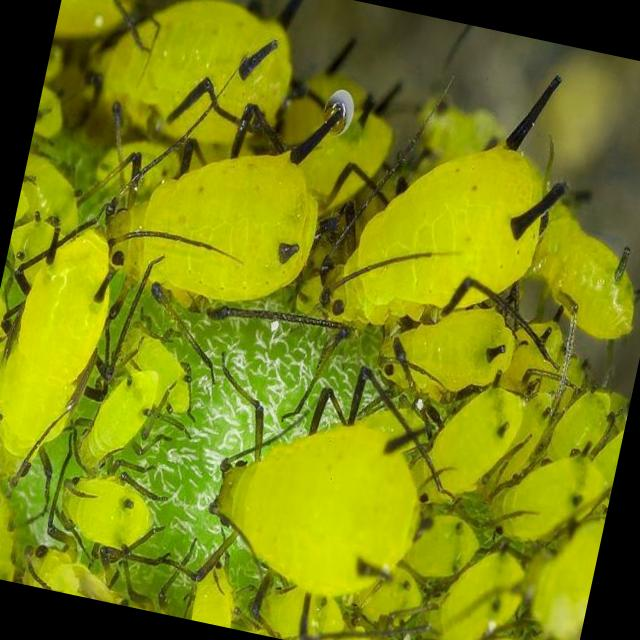aphid: (288, 74, 596, 418), (182, 370, 478, 640), (69, 107, 358, 369), (0, 188, 174, 584), (352, 271, 538, 432), (42, 434, 186, 568), (59, 342, 172, 497)
